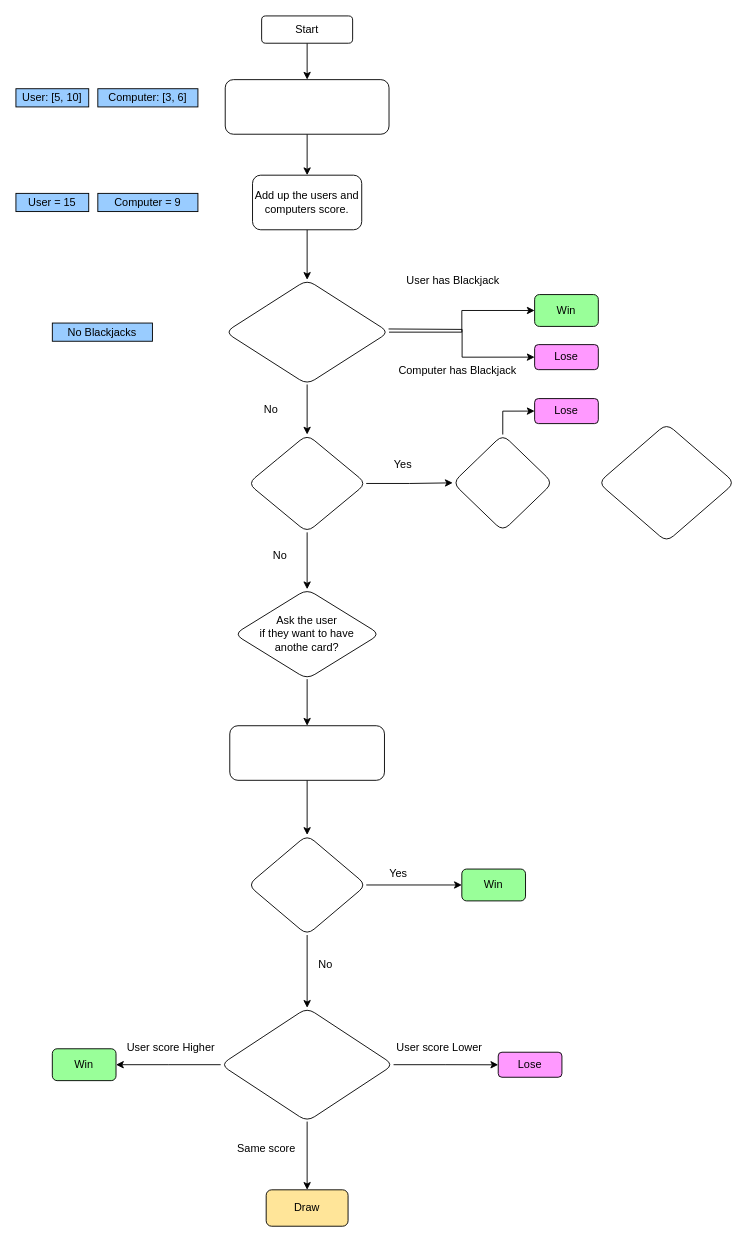
The diagram is 751 pixels wide and 1242 high, and some of its shapes have lost their labels. The box of each missing label's shape, as (x1, y1, x2, y2) in pixels:
Compare user score with computer score to see if user score is higher?: (220, 1007, 394, 1122)
Computer plays, if score is less than 17, keep drawing cards.: (229, 725, 384, 780)
Do they have an "Ace"?: (452, 434, 553, 531)
Does the user or the computer has a Blackjack? (ace + 10): (224, 279, 389, 384)
Has computer gone over the 21?: (247, 834, 366, 935)
If the ace counts as a 1 instead of 11, are they still over 21?: (597, 423, 735, 542)
Is user's score is over 21?: (247, 434, 366, 532)
The user and the computes should both get 2 random cards.: (224, 79, 389, 134)
